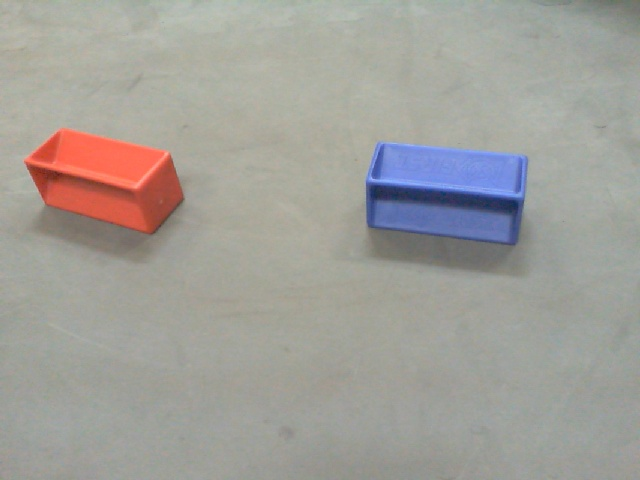BlueSample: (367, 137, 529, 244)
RedSample: (24, 124, 190, 240)
